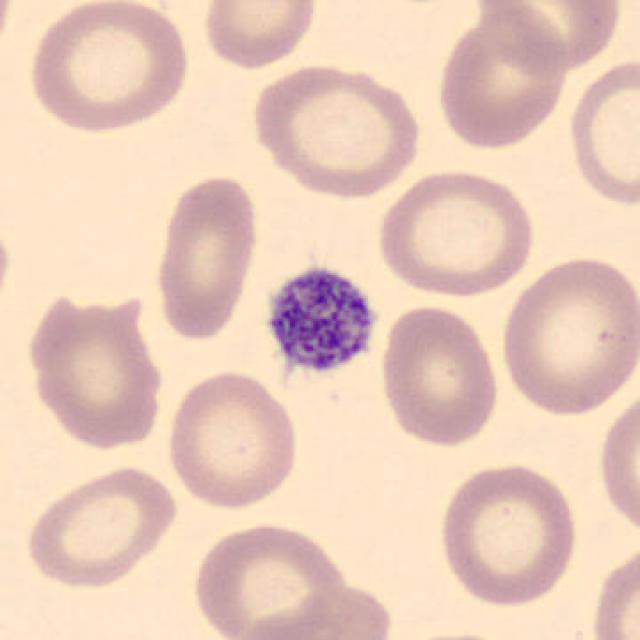Platelets: (260, 261, 384, 381)
RBC: (245, 58, 427, 199), (21, 288, 169, 452), (496, 250, 638, 420), (21, 0, 194, 136), (374, 164, 540, 301), (434, 458, 581, 610), (21, 460, 183, 591), (432, 7, 571, 153), (188, 518, 354, 640), (162, 367, 302, 511), (151, 169, 263, 344), (375, 302, 503, 452), (563, 52, 640, 211), (473, 0, 626, 74), (229, 580, 395, 640), (197, 0, 323, 72), (594, 381, 638, 545), (587, 541, 638, 640), (375, 627, 535, 640), (0, 208, 14, 324), (0, 0, 19, 72)
